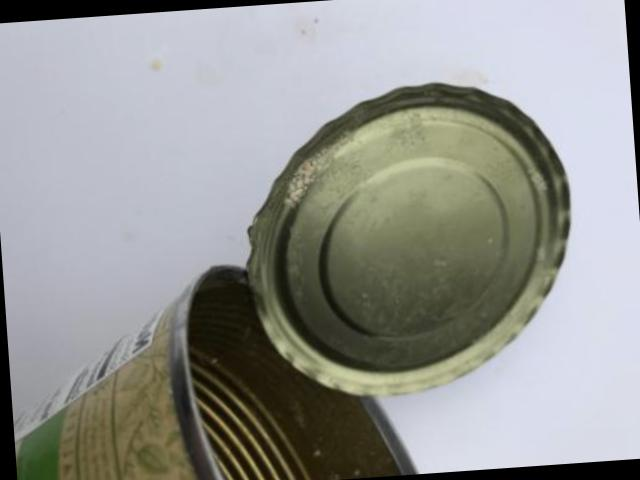metal: (12, 81, 570, 480)
